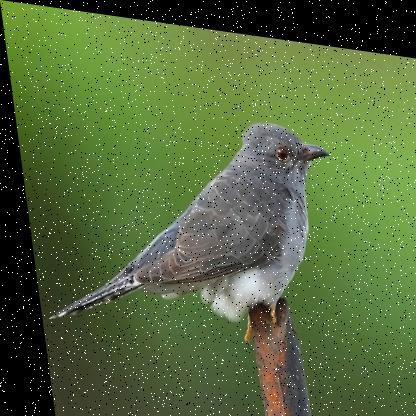Burung: (16, 88, 349, 352)
